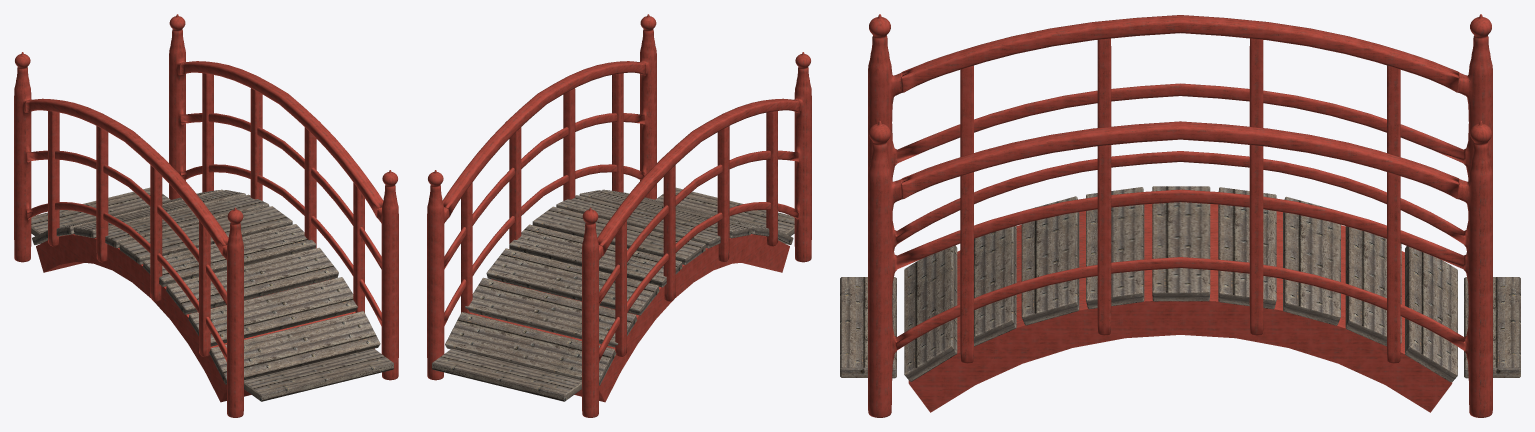
The picture shows the model from 3 angles, left to right: view 1: azimuth 30°, elevation 25°; view 2: azimuth 150°, elevation 25°; view 3: azimuth 270°, elevation 25°; orthographic projection. The views are drawn at different scales.
Parts seen in each view (by area): view 1: Bridge handle bars_3, Wodden Steps_1, Wooden Steps 2_2, Bridge Arch_0; view 2: Bridge handle bars_3, Wodden Steps_1, Wooden Steps 2_2, Bridge Arch_0; view 3: Bridge handle bars_3, Wodden Steps_1, Bridge Arch_0, Wooden Steps 2_2.
Part boxes in pixels (left/top/right/bottom): Bridge handle bars_3: left=14, top=14, right=398, bottom=417; Wodden Steps_1: left=32, top=189, right=380, bottom=384; Wooden Steps 2_2: left=31, top=187, right=393, bottom=401; Bridge Arch_0: left=36, top=234, right=374, bottom=402; Bridge handle bars_3: left=427, top=14, right=811, bottom=417; Wodden Steps_1: left=445, top=189, right=793, bottom=385; Wooden Steps 2_2: left=432, top=187, right=794, bottom=401; Bridge Arch_0: left=470, top=234, right=789, bottom=402; Bridge handle bars_3: left=868, top=14, right=1492, bottom=417; Wodden Steps_1: left=904, top=186, right=1457, bottom=382; Bridge Arch_0: left=908, top=204, right=1452, bottom=412; Wooden Steps 2_2: left=840, top=277, right=1520, bottom=378.
Size of the model in its own units: 2.19 by 2.57 by 5.38.
2 materials, 2 textured.
